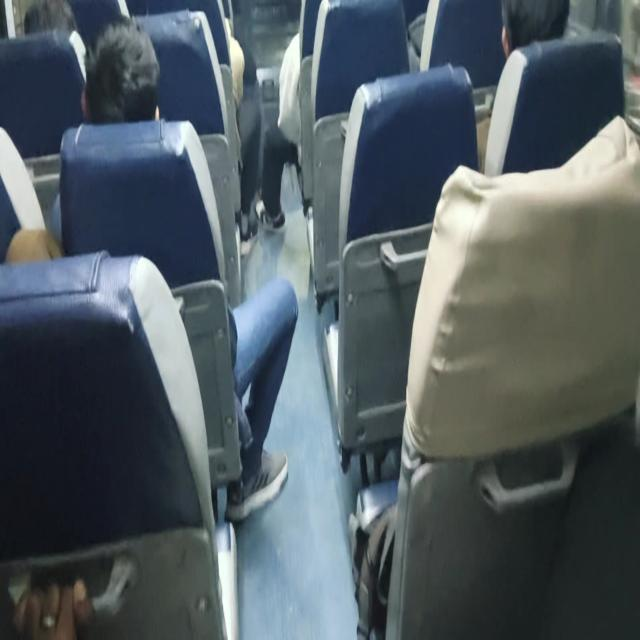person: (89, 20, 170, 124), (497, 0, 572, 58), (15, 0, 75, 40)
